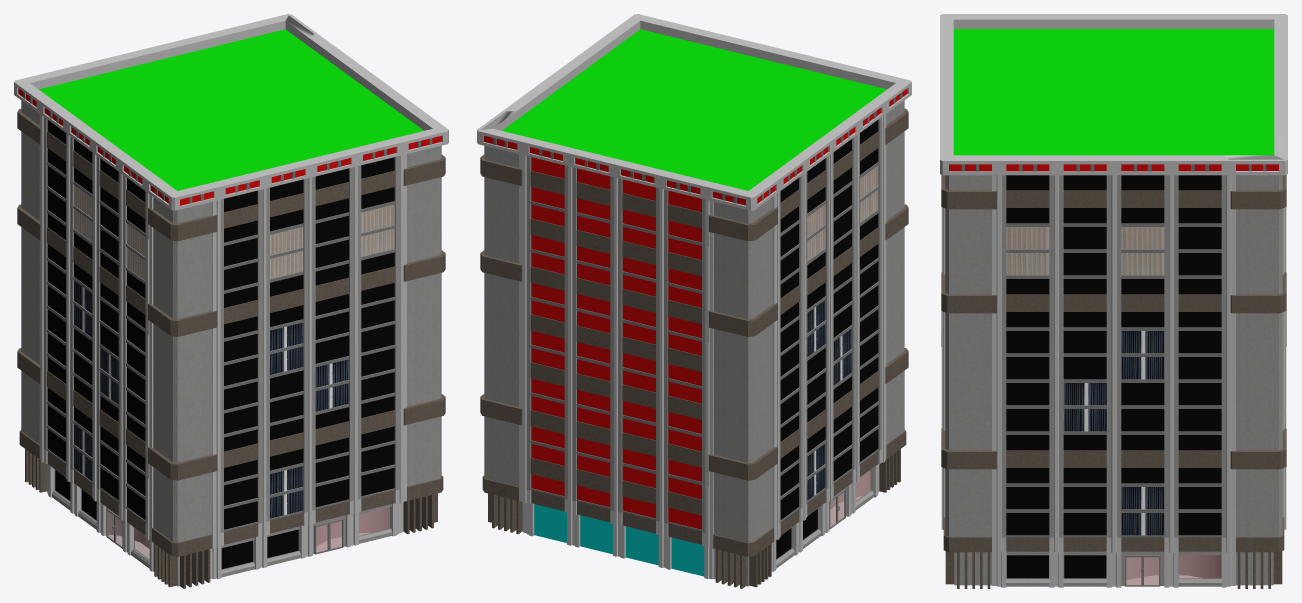
Rendered from Building01_C.fbx.
The picture shows the model from 3 angles, left to right: view 1: azimuth 30°, elevation 25°; view 2: azimuth 150°, elevation 25°; view 3: azimuth 270°, elevation 25°; orthographic projection. The views are drawn at different scales.
Parts seen in each view (by area): view 1: Building01_C; view 2: Building01_C; view 3: Building01_C.
Boxes of the visible parts, x1=… form: Building01_C: x1=14, y1=14, x2=448, y2=588; Building01_C: x1=477, y1=14, x2=911, y2=588; Building01_C: x1=940, y1=14, x2=1287, y2=588.
Bounding box in the file's own units: 3638 × 4963 × 3638.
